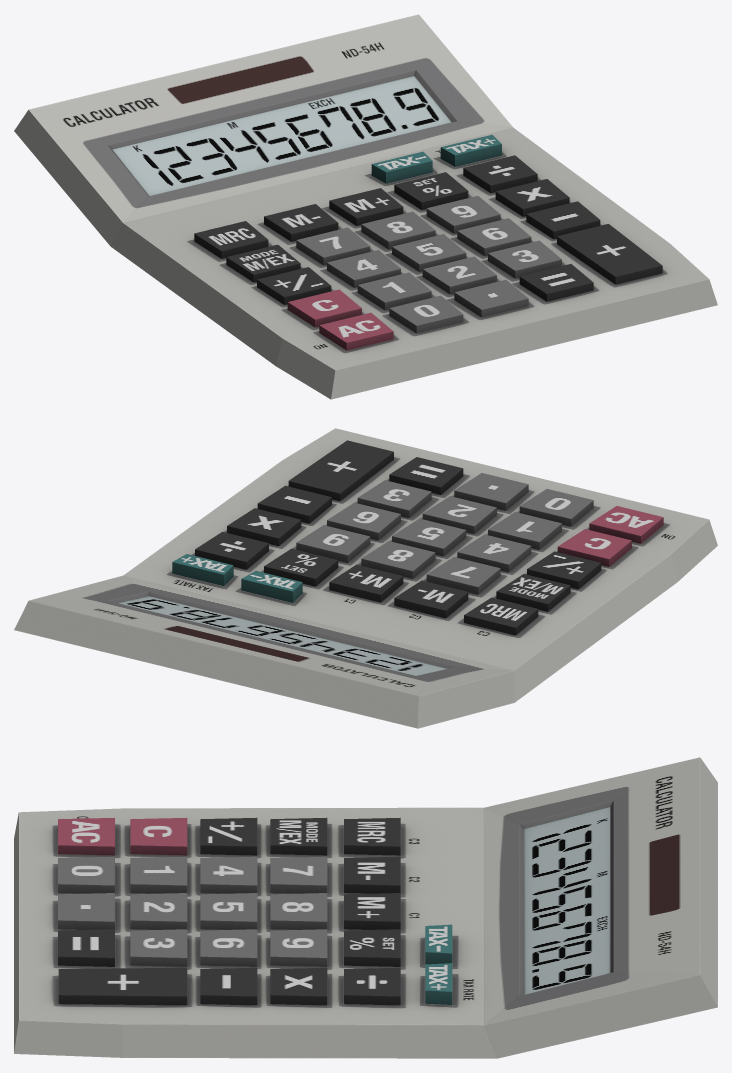
File: calculator.glb
The picture shows the model from 3 angles, top to bottom: view 1: azimuth 30°, elevation 25°; view 2: azimuth 150°, elevation 25°; view 3: azimuth 270°, elevation 25°; orthographic projection. The views are drawn at different scales.
Visible parts, largest first — view 1: Calculator; view 2: Calculator; view 3: Calculator.
Boxes of the visible parts, left/top/right/bottom form: Calculator: left=14, top=14, right=717, bottom=399; Calculator: left=14, top=428, right=717, bottom=728; Calculator: left=14, top=757, right=717, bottom=1058.
Bounding box in the file's own units: 0.0756 × 0.0126 × 0.1.
Materials: 1 (1 with a texture image).
